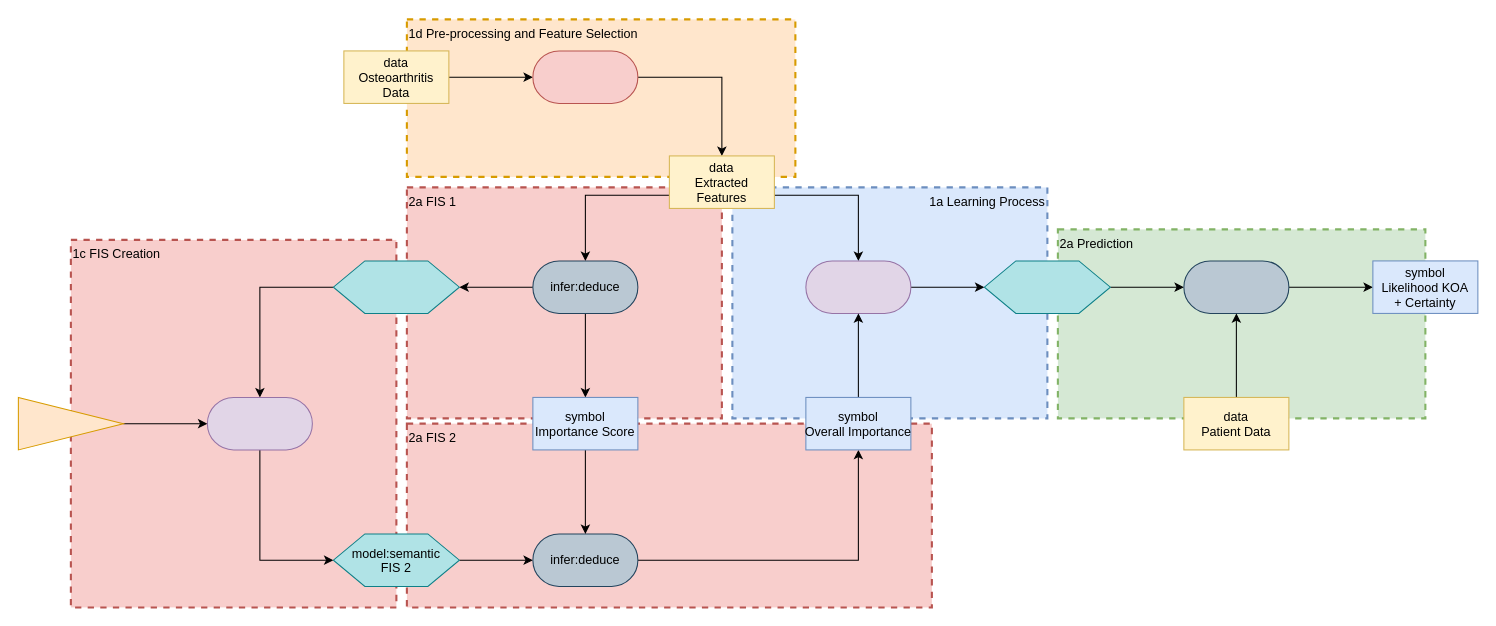
Some shapes in this 1496 by 626 pixel diagram are drawn without their labels. Here are the shapes that lost their labels. From the top down, the centre of each, then its label:
pixel 585 76: transform
pixel 395 286: model:semantic FIS 1
pixel 858 286: generate:train
pixel 1046 286: model:statistical Prediction Model
pixel 1236 286: infer:predict
pixel 70 423: actor
pixel 259 423: generate:engineer
